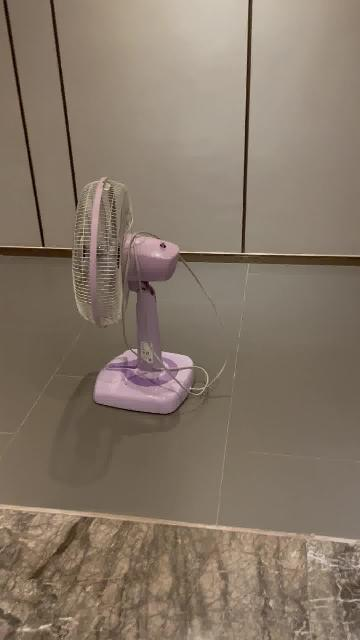Fan: (72, 178, 196, 416)
